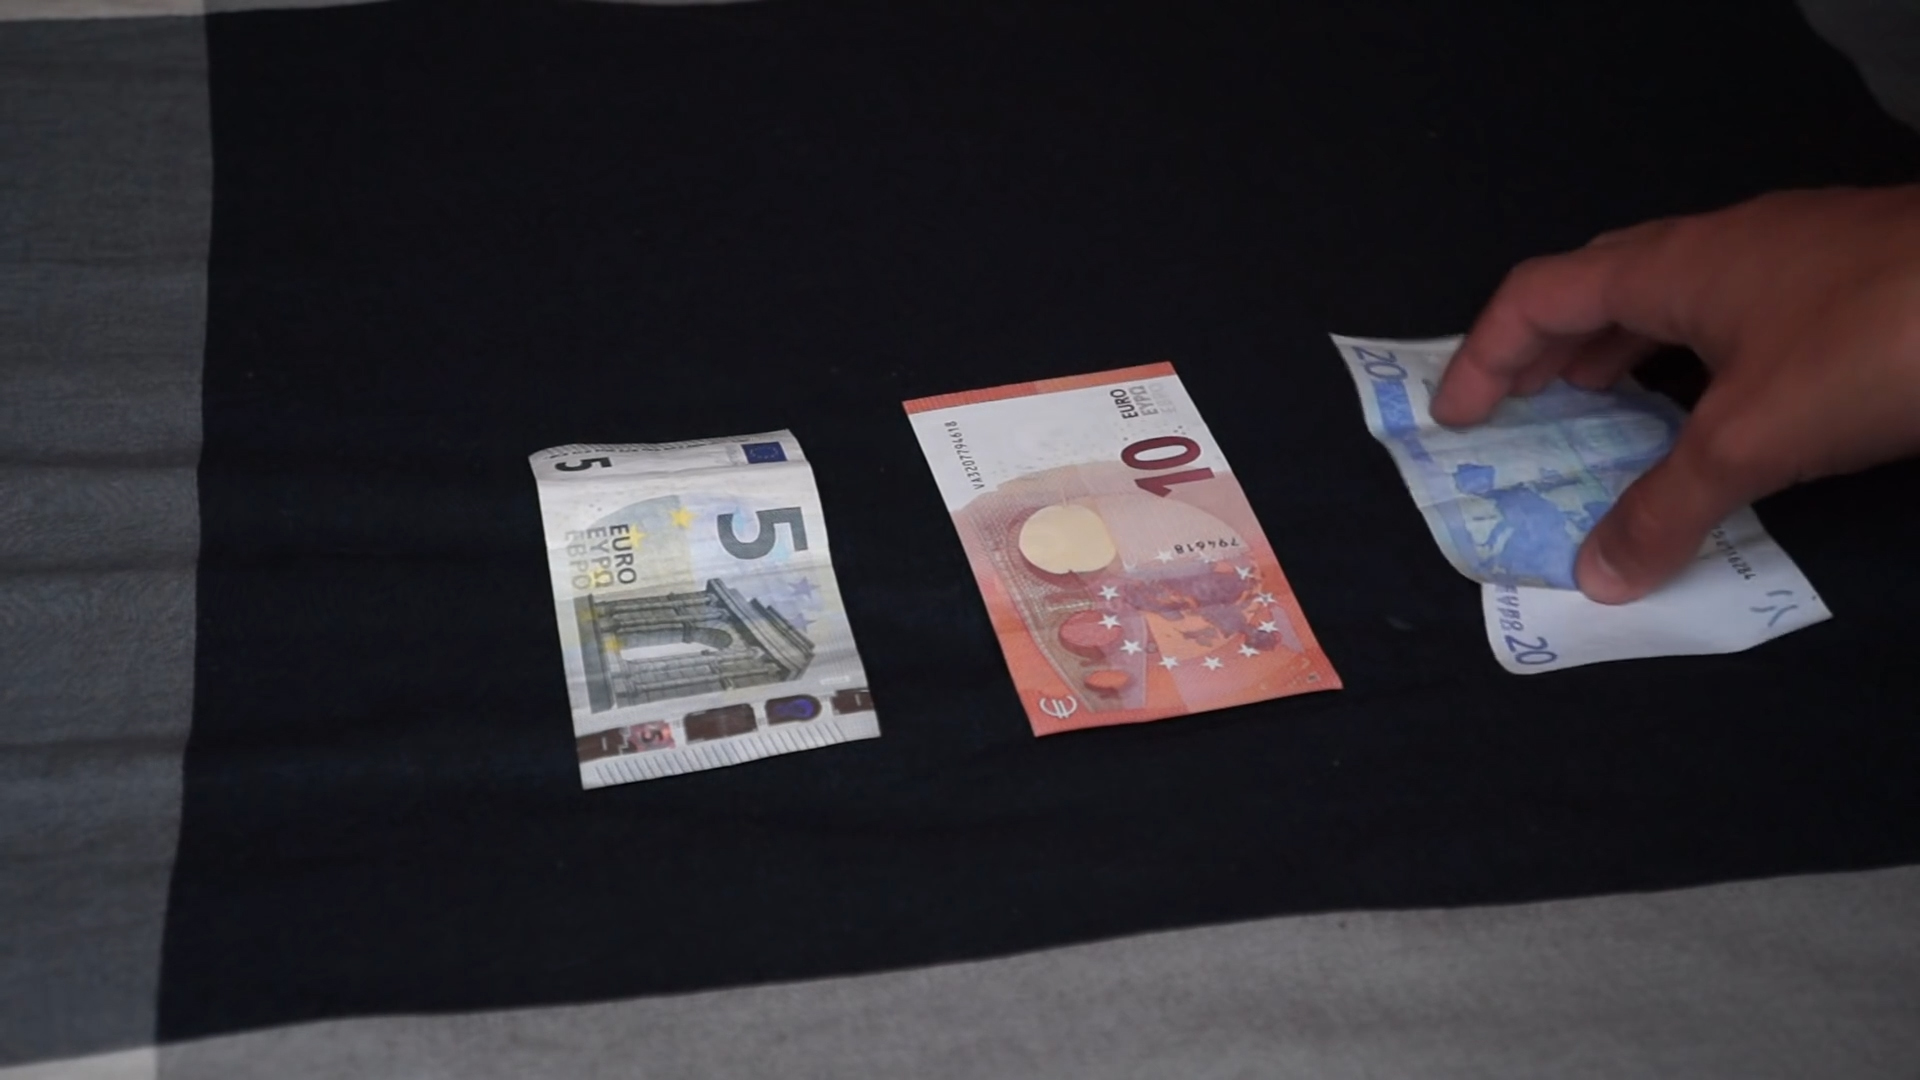billete: (1327, 326, 1838, 679), (899, 352, 1346, 740), (524, 422, 886, 793)
